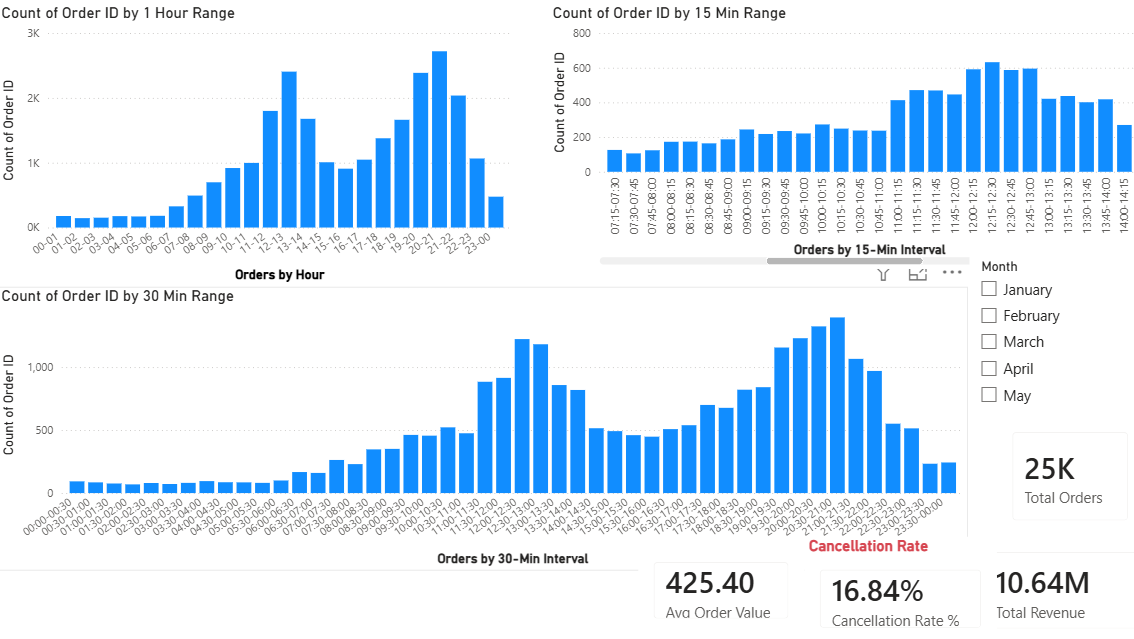

Layout of this report page (visuals, bound fields, positions):
{"tool":"powerbi","page":{"name":"Overview","canvas":[1280,720],"ordinal":0},"visuals":[{"type":"clusteredColumnChart","fields":{"Category":["sample_orders.1 Hour Range"],"Y":["CountNonNull(sample_orders.Order ID)"]},"box":[0,16.5,569.5,311.5],"z":0},{"type":"clusteredColumnChart","fields":{"Category":["sample_orders.30 Min Range"],"Y":["CountNonNull(sample_orders.Order ID)"]},"box":[0,328,1066.2,311.5],"z":1000},{"type":"clusteredColumnChart","fields":{"Category":["sample_orders.15 Min Range"],"Y":["CountNonNull(sample_orders.Order ID)"]},"box":[605.1,16.5,654.5,292.3],"z":2000},{"type":"slicer","fields":{"Values":["sample_orders.Date.Variation.Date Hierarchy.Month"]},"box":[1067.6,292.3,196.2,178.4],"z":3000},{"type":"cardVisual","fields":{"Data":["sample_orders.Total Orders"]},"box":[1097.8,470.7,161.9,131.7],"z":3001},{"type":"cardVisual","fields":{"Data":["sample_orders.Total Revenue"]},"box":[1066.2,602.4,214.1,118],"z":3002},{"type":"cardVisual","fields":{"Data":["sample_orders.Avg Order Value"]},"box":[703.9,613.4,182.5,96.1],"z":3003},{"type":"cardVisual","title":"Cancellation Rate","fields":{"Data":["sample_orders.Cancellation Rate %"]},"box":[886.5,602.4,211.3,118],"z":3004}]}

Visuals, with their boxes in screenshot pixels (x1, y1, x2, y2), scaled from the page's 1280x720 canvas onto the 1134x639 screenshot:
clusteredColumnChart - sample_orders.1 Hour Range x CountNonNull(sample_orders.Order ID): bbox(0, 15, 505, 291)
clusteredColumnChart - sample_orders.30 Min Range x CountNonNull(sample_orders.Order ID): bbox(0, 291, 945, 568)
clusteredColumnChart - sample_orders.15 Min Range x CountNonNull(sample_orders.Order ID): bbox(536, 15, 1116, 274)
slicer - sample_orders.Date.Variation.Date Hierarchy.Month: bbox(946, 259, 1120, 418)
cardVisual - sample_orders.Total Orders: bbox(973, 418, 1116, 535)
cardVisual - sample_orders.Total Revenue: bbox(945, 535, 1133, 638)
cardVisual - sample_orders.Avg Order Value: bbox(624, 544, 785, 630)
"Cancellation Rate" cardVisual: bbox(785, 535, 973, 638)
